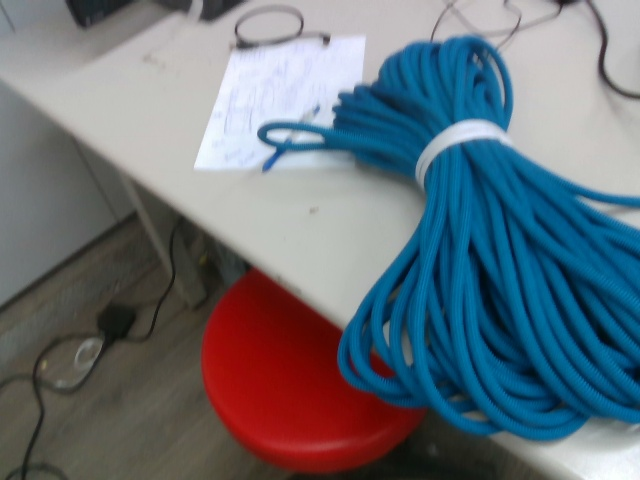rope: (257, 33, 640, 445)
